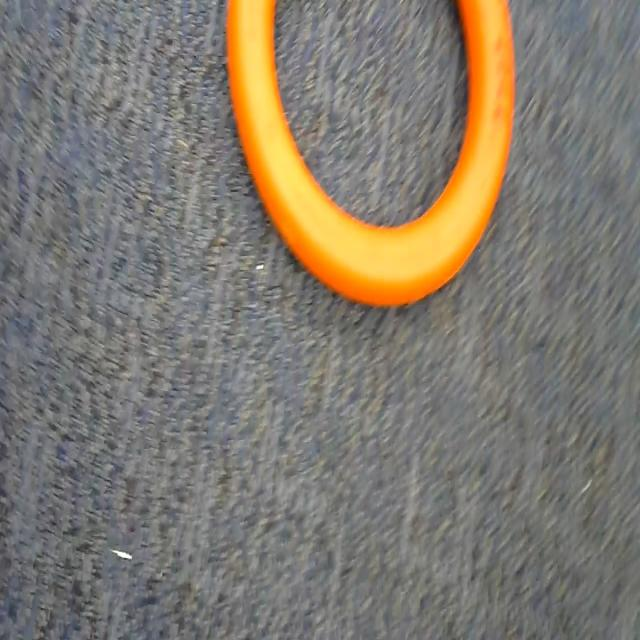note: (225, 0, 553, 340)
